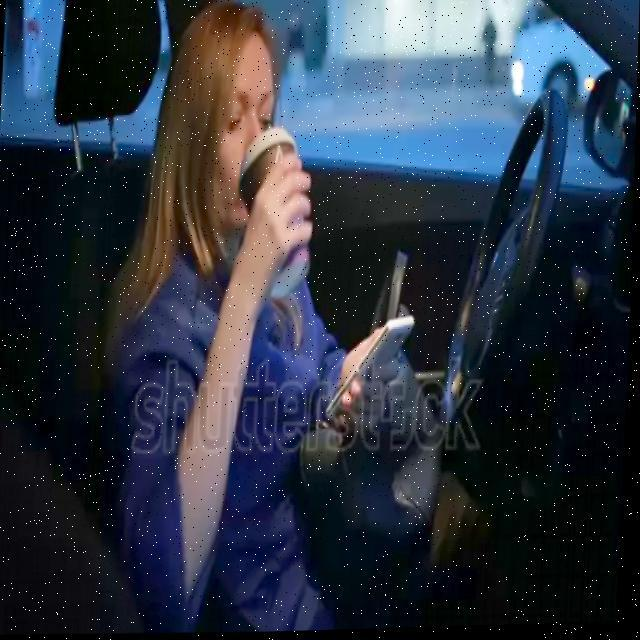Drinking: (233, 124, 318, 300)
PhoneCall: (324, 312, 418, 417)
